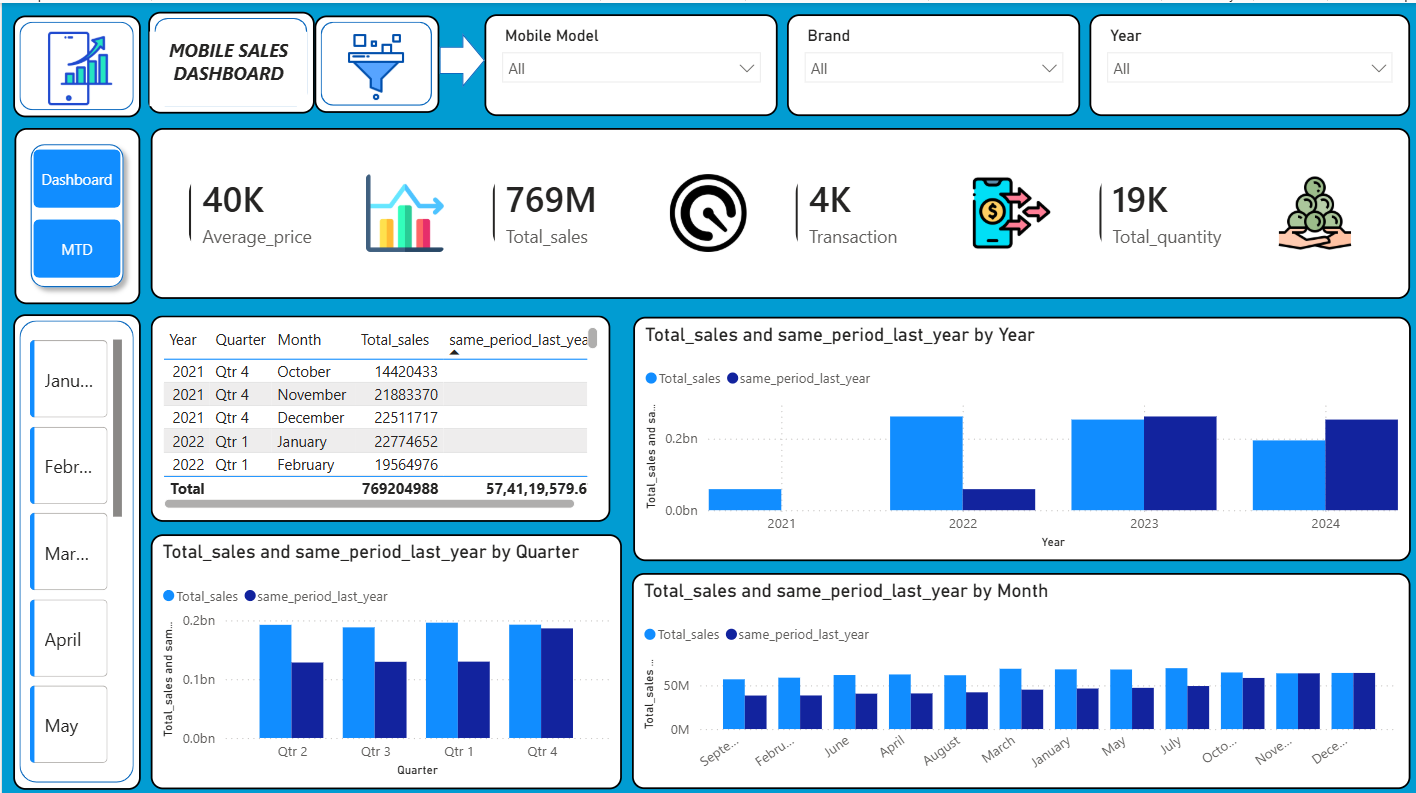

The dashboard page shown, as its layout file describes it:
{"tool":"powerbi","page":{"name":"Same period last year","canvas":[1280,720],"ordinal":2},"visuals":[{"type":"shape","box":[9.6,11,115.3,91.9],"z":0},{"type":"shape","box":[11,112.5,113.9,159.2],"z":1000},{"type":"cardVisual","fields":{"Data":["Sheet1.average_price","Sheet1.total_sales","Sheet1.transaction","Sheet1.Total_quantity"]},"box":[134.9,112.8,1137.2,154.7],"z":2000},{"type":"slicer","fields":{"Values":["Sheet1.Mobile Model"]},"box":[436,10.5,265.1,91.9],"z":3000},{"type":"slicer","fields":{"Values":["Sheet1.Brand"]},"box":[709.3,10.5,265.1,91.9],"z":4000},{"type":"slicer","fields":{"Values":["Query1.Date.Variation.Date Hierarchy.Year"]},"box":[982.6,10.5,289.5,91.9],"z":5000},{"type":"shape","box":[282.7,11,112.5,87.8],"z":6000},{"type":"image","box":[295,27.4,86.4,61.7],"z":7000},{"type":"shape","box":[395.2,27.4,41.2,49.4],"z":8000},{"type":"shape","box":[132.6,8.1,150,91.9],"z":9000},{"type":"textbox","box":[133.1,26.1,142.7,67.2],"z":10000},{"type":"shape","box":[9.6,281.3,115.3,429.5],"z":11000},{"type":"advancedSlicerVisual","fields":{"Values":["Query1.Date.Variation.Date Hierarchy.Month"]},"box":[20.6,299.1,93.3,395.2],"z":12000},{"type":"tableEx","fields":{"Values":["Query1.Date.Variation.Date Hierarchy.Year","Query1.Date.Variation.Date Hierarchy.Quarter","Query1.Date.Variation.Date Hierarchy.Month","Sheet1.Total_sales","Sheet1.same_period_last_year"]},"box":[134.9,282.6,415.1,186],"z":13000},{"type":"clusteredColumnChart","fields":{"Category":["Query1.Date.Variation.Date Hierarchy.Year","Query1.Date.Variation.Date Hierarchy.Quarter","Query1.Date.Variation.Date Hierarchy.Month"],"Y":["Sheet1.Total_sales","Sheet1.same_period_last_year"]},"box":[569.8,283.7,702.3,220.9],"z":14000},{"type":"clusteredColumnChart","fields":{"Category":["Query1.Date.Variation.Date Hierarchy.Month"],"Y":["Sheet1.Total_sales","Sheet1.same_period_last_year"]},"box":[568.6,515.1,703.5,195.3],"z":15000},{"type":"clusteredColumnChart","fields":{"Category":["Query1.Date.Variation.Date Hierarchy.Year","Query1.Date.Variation.Date Hierarchy.Quarter","Query1.Date.Variation.Date Hierarchy.Month"],"Y":["Sheet1.Total_sales","Sheet1.same_period_last_year"]},"box":[134.9,480.2,425.6,230.2],"z":16000},{"type":"pageNavigator","box":[28.2,132.1,79,116.3],"z":17000},{"type":"image","box":[15.8,26,109.5,66.6],"z":17001}]}

Visuals, with their boxes in screenshot pixels (x1, y1, x2, y2), scaled from the page's 1280x720 canvas onto the 1416x793 screenshot:
shape: <region>11, 12, 138, 113</region>
shape: <region>12, 124, 138, 299</region>
cardVisual - Sheet1.average_price x Sheet1.total_sales: <region>149, 124, 1407, 295</region>
slicer - Sheet1.Mobile Model: <region>482, 12, 776, 113</region>
slicer - Sheet1.Brand: <region>785, 12, 1078, 113</region>
slicer - Query1.Date.Variation.Date Hierarchy.Year: <region>1087, 12, 1407, 113</region>
shape: <region>313, 12, 437, 109</region>
image: <region>326, 30, 422, 98</region>
shape: <region>437, 30, 483, 85</region>
shape: <region>147, 9, 313, 110</region>
textbox: <region>147, 29, 305, 103</region>
shape: <region>11, 310, 138, 783</region>
advancedSlicerVisual - Query1.Date.Variation.Date Hierarchy.Month: <region>23, 329, 126, 765</region>
tableEx - Query1.Date.Variation.Date Hierarchy.Year x Query1.Date.Variation.Date Hierarchy.Quarter: <region>149, 311, 608, 516</region>
clusteredColumnChart - Query1.Date.Variation.Date Hierarchy.Year x Query1.Date.Variation.Date Hierarchy.Quarter: <region>630, 312, 1407, 556</region>
clusteredColumnChart - Query1.Date.Variation.Date Hierarchy.Month x Sheet1.Total_sales: <region>629, 567, 1407, 782</region>
clusteredColumnChart - Query1.Date.Variation.Date Hierarchy.Year x Query1.Date.Variation.Date Hierarchy.Quarter: <region>149, 529, 620, 782</region>
pageNavigator: <region>31, 145, 119, 274</region>
image: <region>17, 29, 139, 102</region>
